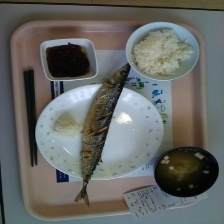rice: (130, 28, 196, 78)
